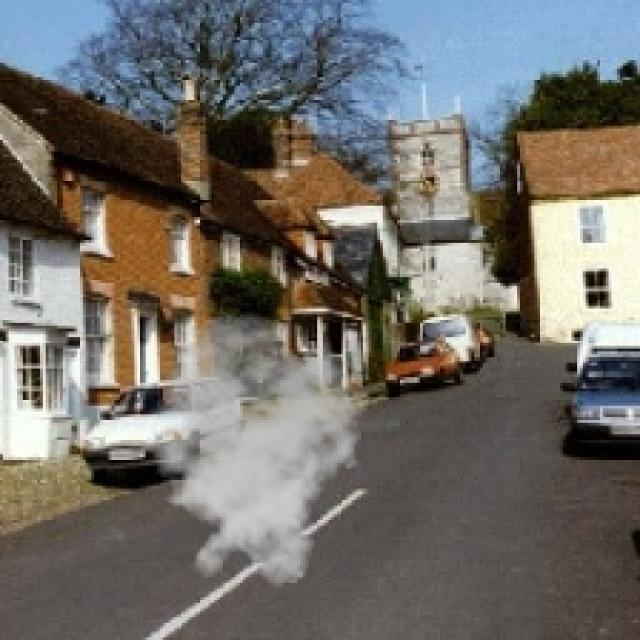smoke: (129, 312, 374, 588)
